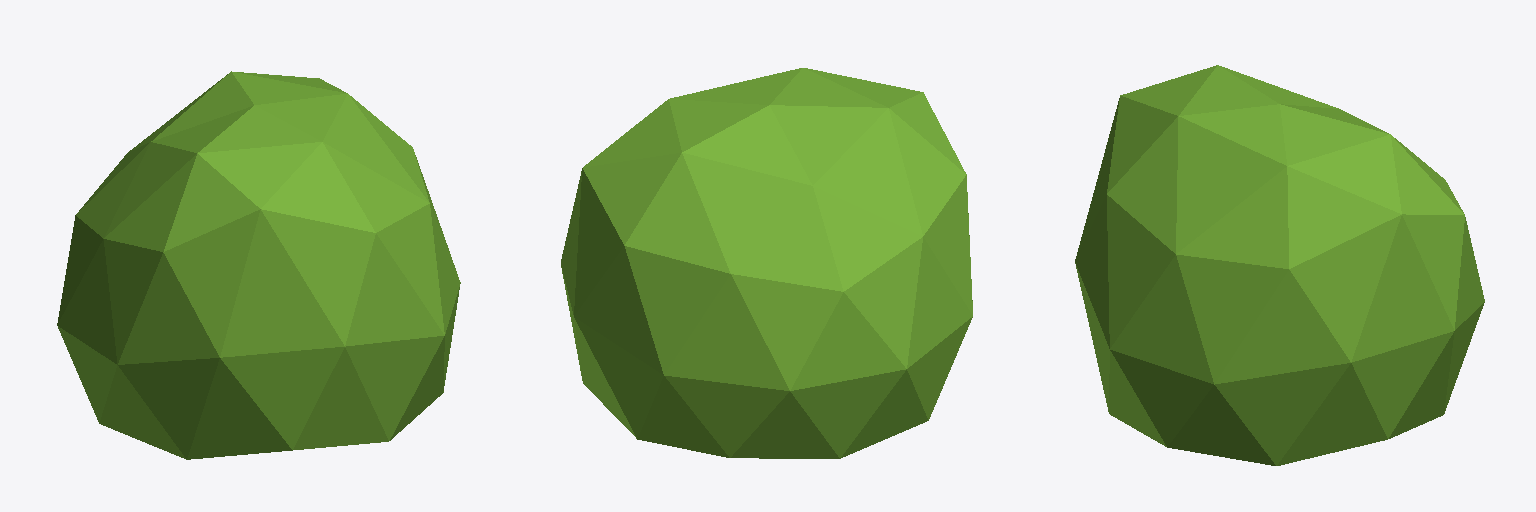
3 renders of one model, left to right at view 1: azimuth 30°, elevation 25°; view 2: azimuth 150°, elevation 25°; view 3: azimuth 270°, elevation 25°, orthographic.
Parts seen in each view (by area): view 1: Bush2_Icosphere.084; view 2: Bush2_Icosphere.084; view 3: Bush2_Icosphere.084.
Boxes of the visible parts, box(x1,y1,x2,y2) form: Bush2_Icosphere.084: box(57, 71, 460, 459); Bush2_Icosphere.084: box(561, 68, 972, 458); Bush2_Icosphere.084: box(1075, 65, 1484, 465).
Size of the model in its own units: 2.08 by 1.75 by 2.15.
1 materials, 1 textured.